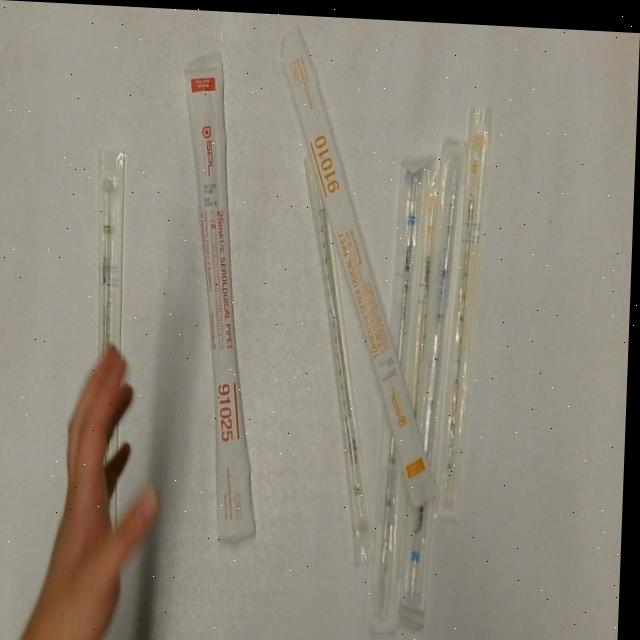Serelogical Pipet 1 mL - Sealed: (440, 94, 498, 521), (411, 160, 447, 410)
Serelogical Pipet 10 mL - Sealed: (267, 17, 458, 506)
Serelogical Pipet 2 mL - Sealed: (290, 151, 395, 563), (92, 143, 132, 368)
Serelogical Pipet 25 mL - Sealed: (167, 46, 278, 548)
Serelogical Pipet 5 mL - Sealed: (371, 144, 439, 634), (403, 130, 471, 609)
